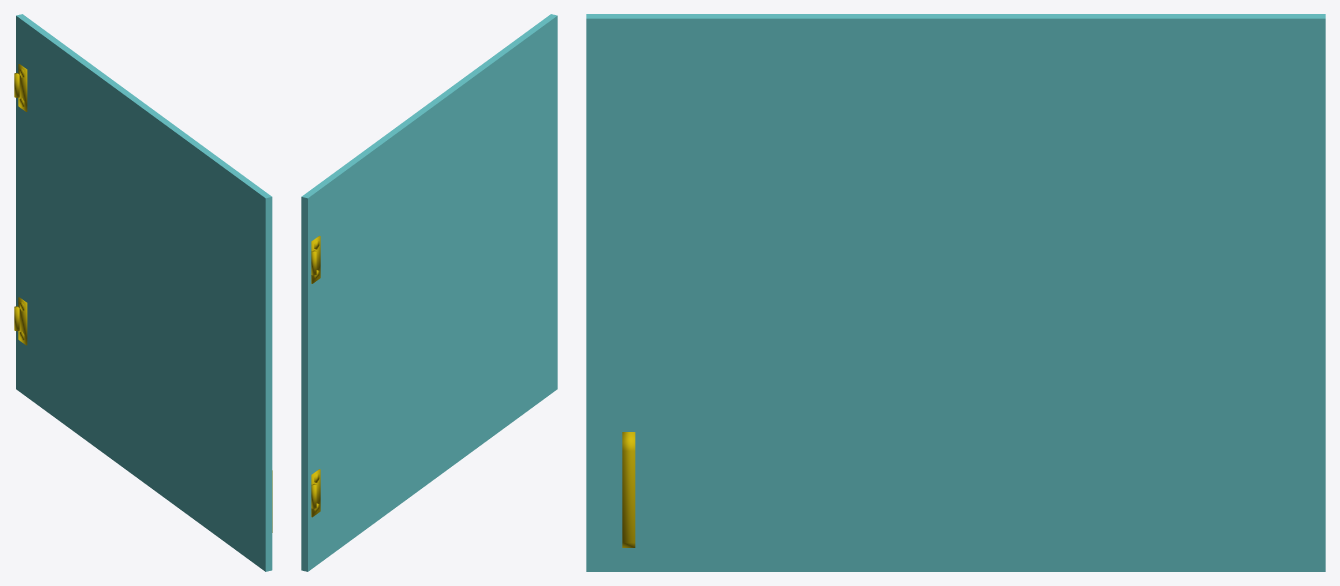
Rendered from MOD_FUR_Bathroom_cabinet_door_01.fbx.
3 views of the same model, side by side, from view 1: azimuth 30°, elevation 25°; view 2: azimuth 150°, elevation 25°; view 3: azimuth 270°, elevation 25° (orthographic). The views are drawn at different scales.
Visible parts, largest first — view 1: HSHP_MOD_Bathroom_cabinet_door_01; view 2: HSHP_MOD_Bathroom_cabinet_door_01; view 3: HSHP_MOD_Bathroom_cabinet_door_01.
Boxes of the visible parts, x1,y1,x2,y2 form: HSHP_MOD_Bathroom_cabinet_door_01: (14, 14, 272, 571); HSHP_MOD_Bathroom_cabinet_door_01: (301, 14, 557, 571); HSHP_MOD_Bathroom_cabinet_door_01: (586, 14, 1325, 571).
Size of the model in its own units: 0.0514 by 0.7573 by 0.9174.
